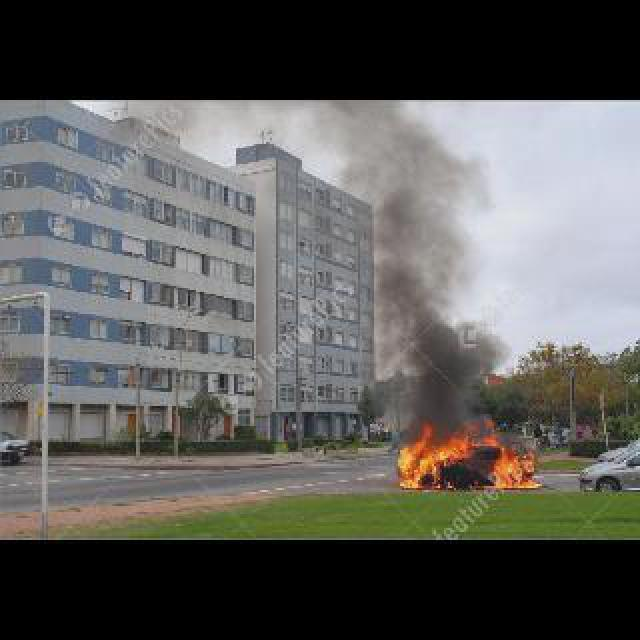Fire: (382, 416, 546, 494)
Smoke: (320, 100, 508, 412)
